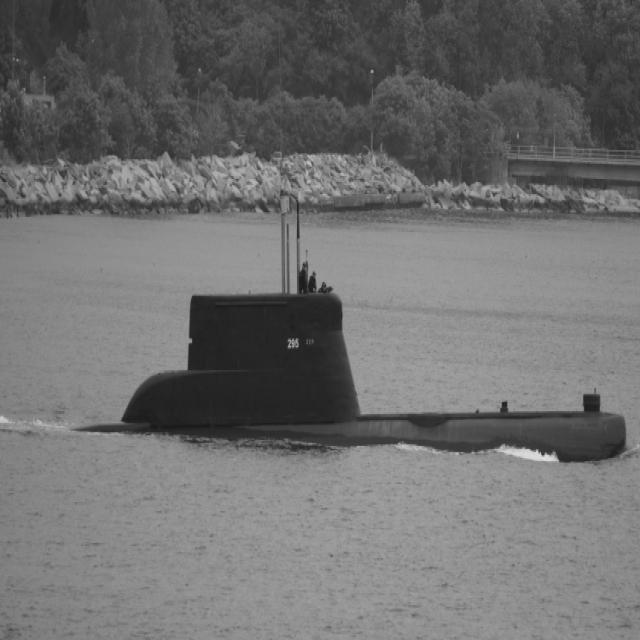submarine: (71, 295, 638, 435)
